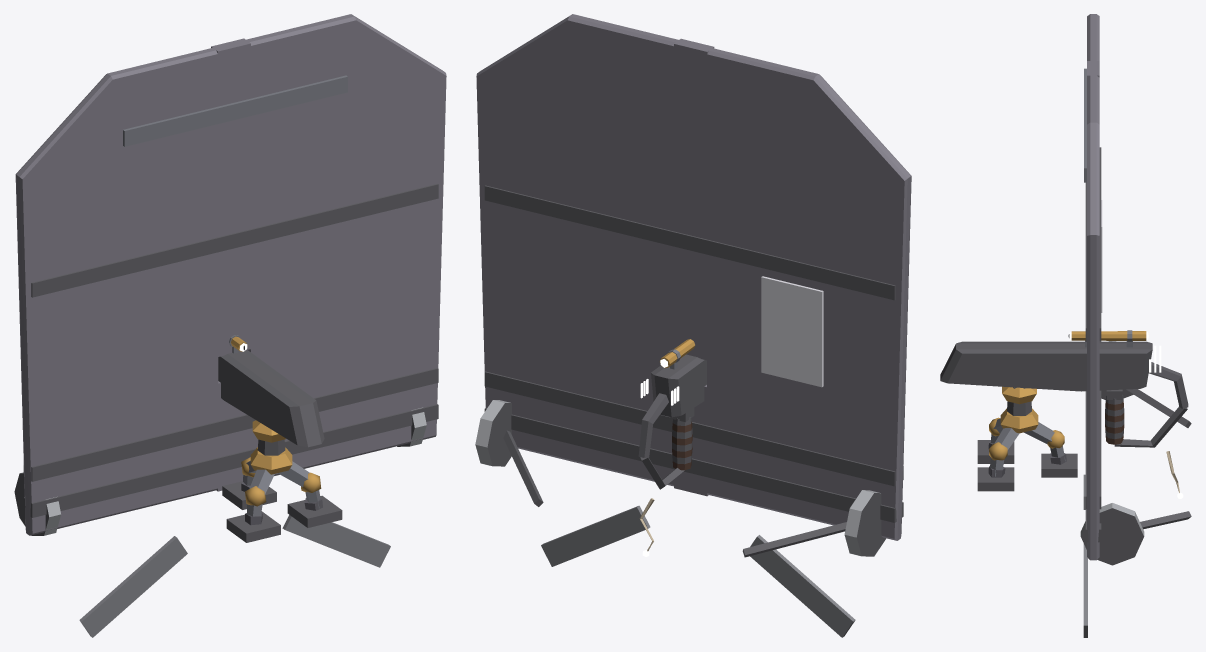
File: gun-mantlet.glb
3 renders of one model, left to right at view 1: azimuth 30°, elevation 25°; view 2: azimuth 150°, elevation 25°; view 3: azimuth 270°, elevation 25°, orthographic. The views are drawn at different scales.
Parts seen in each view (by area): view 1: gun-mantlet; view 2: gun-mantlet; view 3: gun-mantlet.
Boxes of the visible parts, x1=… form: gun-mantlet: x1=14, y1=14, x2=446, y2=637; gun-mantlet: x1=475, y1=14, x2=911, y2=637; gun-mantlet: x1=940, y1=14, x2=1191, y2=637.
Size of the model in its own units: 1.42 by 1.76 by 0.793.
